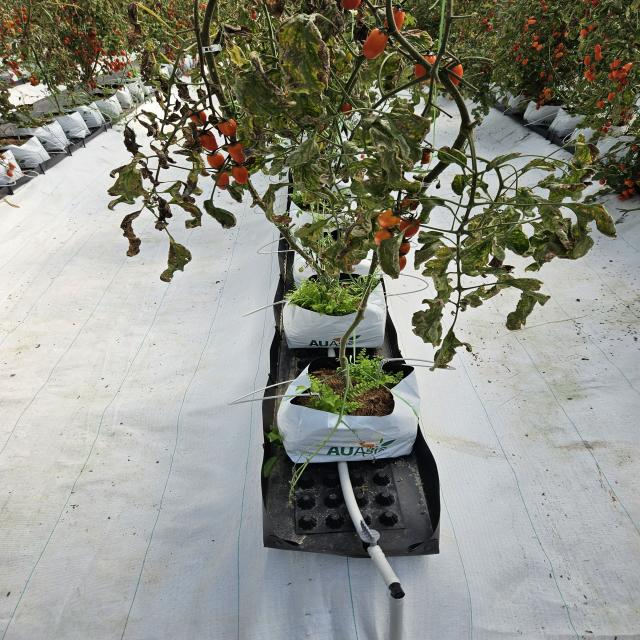Soilbag: (271, 370, 425, 460), (277, 272, 387, 349)
plant: (334, 0, 618, 395), (106, 1, 344, 302)
